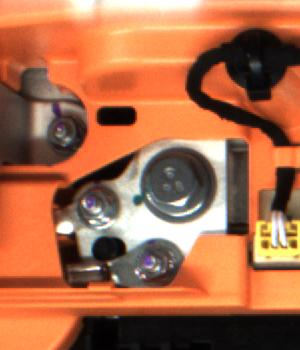nut_b: (136, 146, 215, 227)
screw_s: (134, 245, 177, 287), (71, 190, 112, 227), (40, 113, 76, 155)
